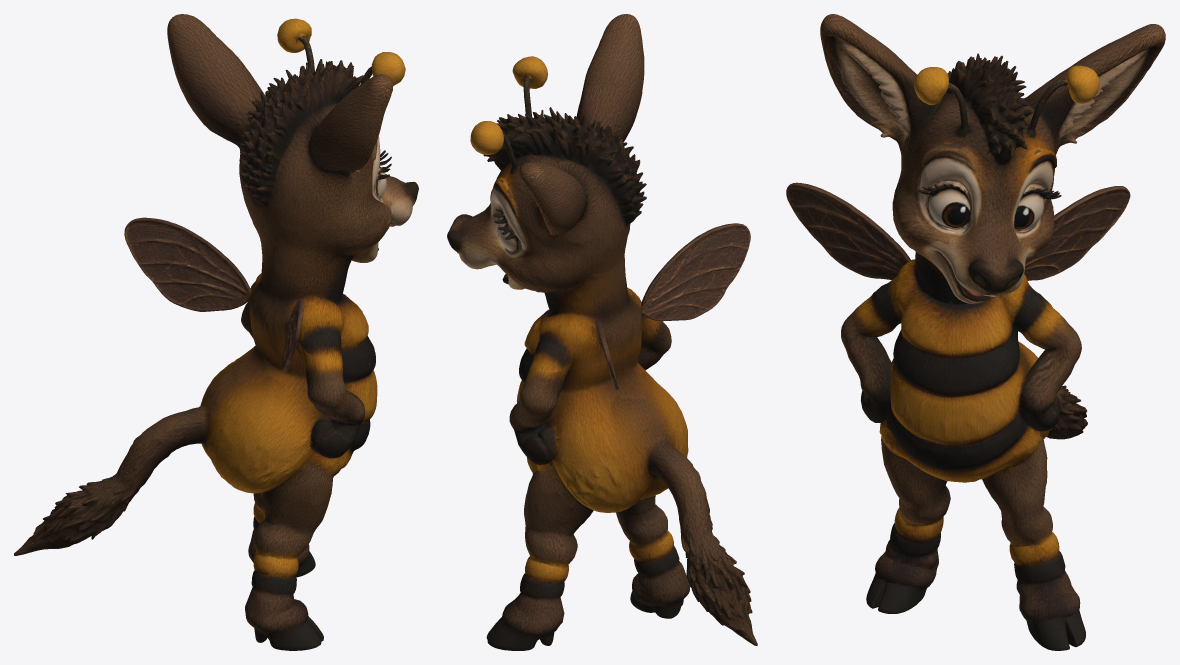
File: BEEDEERE.glb
3 views of the same model, side by side, from view 1: azimuth 30°, elevation 25°; view 2: azimuth 150°, elevation 25°; view 3: azimuth 270°, elevation 25° (orthographic). The views are drawn at different scales.
Parts seen in each view (by area): view 1: tripo_node_8a8159ee-49b0-4e8d-a0e4-4c377d17bd8c; view 2: tripo_node_8a8159ee-49b0-4e8d-a0e4-4c377d17bd8c; view 3: tripo_node_8a8159ee-49b0-4e8d-a0e4-4c377d17bd8c.
Part boxes in pixels (x1=…): tripo_node_8a8159ee-49b0-4e8d-a0e4-4c377d17bd8c: x1=14, y1=14, x2=418, y2=650; tripo_node_8a8159ee-49b0-4e8d-a0e4-4c377d17bd8c: x1=447, y1=14, x2=757, y2=650; tripo_node_8a8159ee-49b0-4e8d-a0e4-4c377d17bd8c: x1=786, y1=14, x2=1165, y2=650.
Size of the model in its own units: 0.653 by 1 by 0.5566.
Materials: 1 (1 with a texture image).
